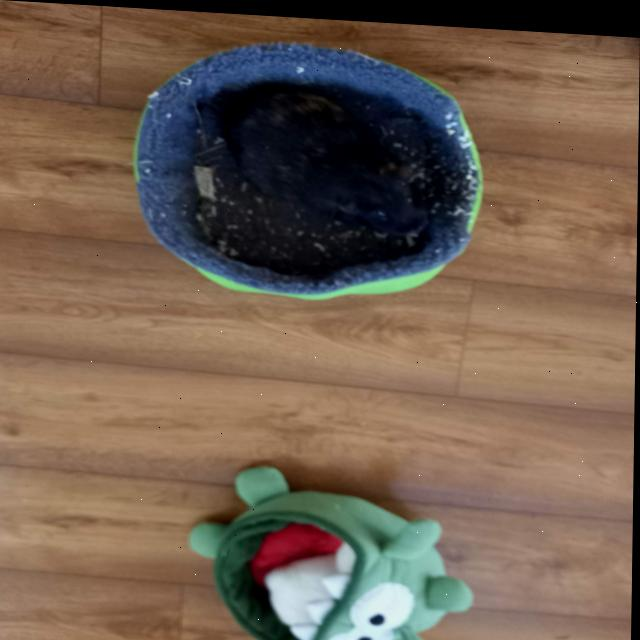guinea pig: (225, 80, 432, 236), (262, 527, 358, 640)
